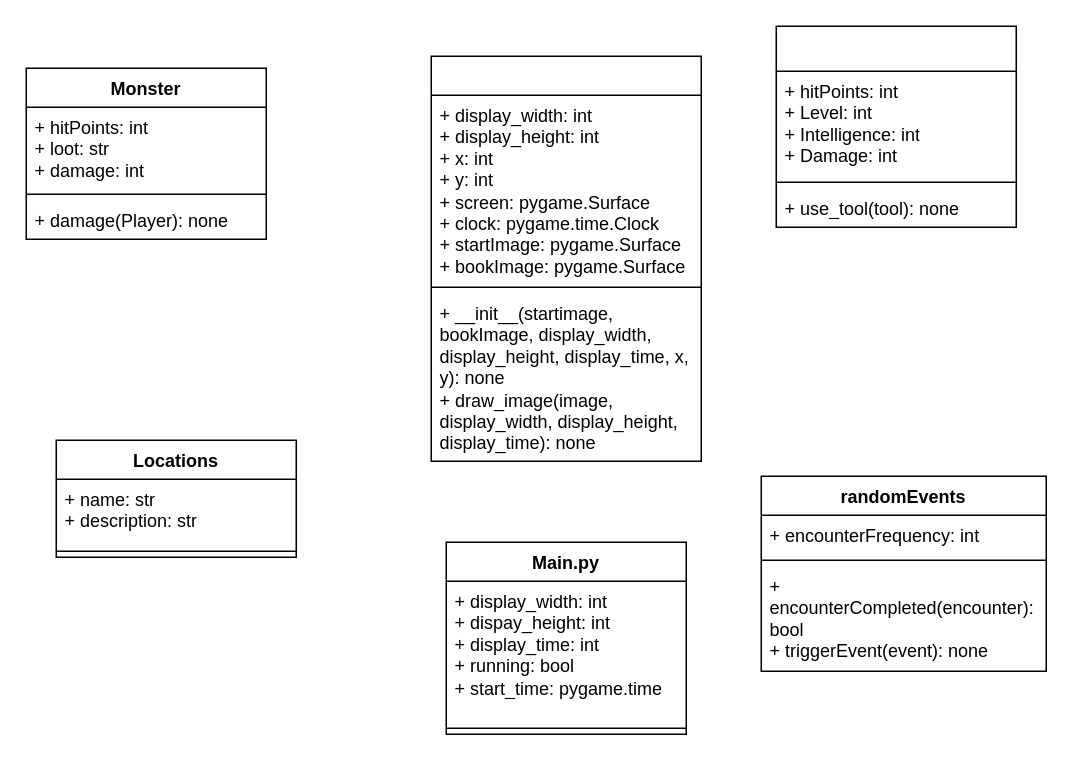
The diagram is 1073 pixels wide and 761 high, and some of its shapes have lost their labels. Here are the shapes that lost their labels. From the top down, the box of each, then its label:
(775, 25, 1016, 227): Player
(430, 55, 701, 461): Graphics.py
